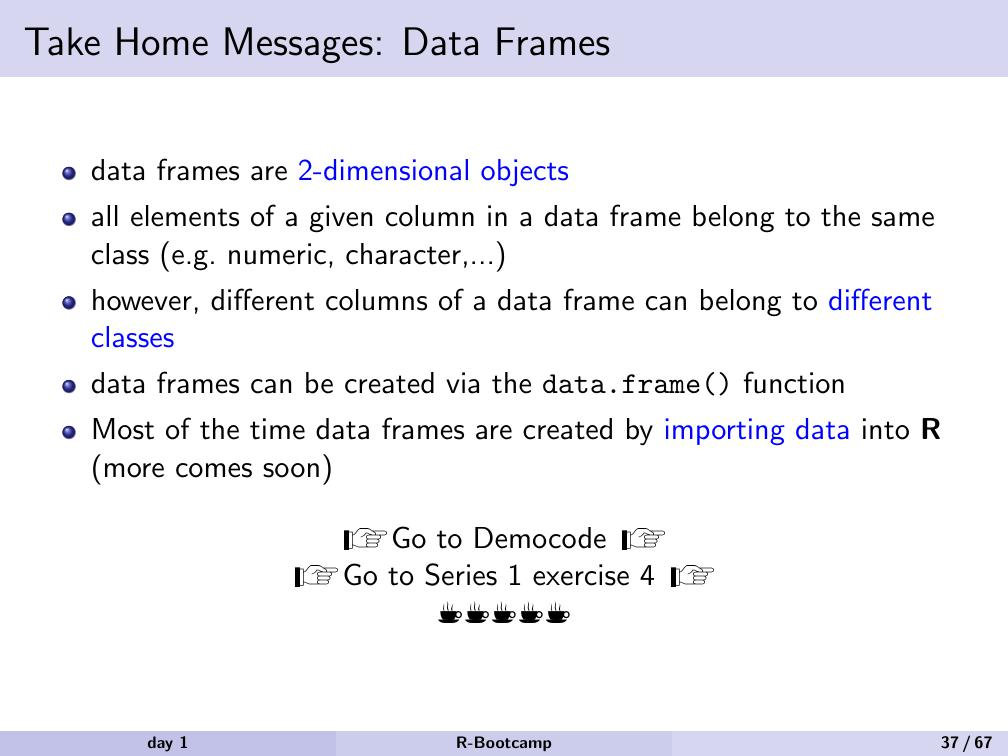Title: (13, 15, 613, 70)
